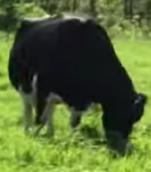cow: (8, 13, 149, 160)
